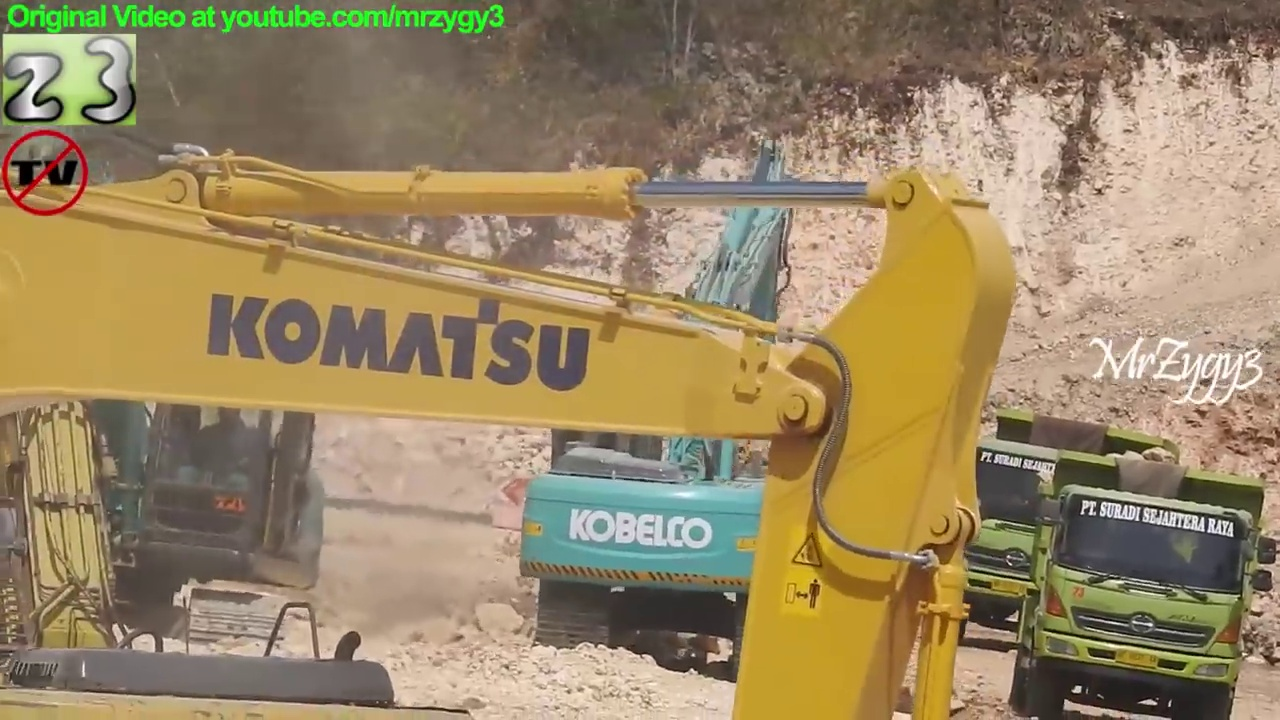excavator: (1, 102, 1019, 720), (1, 185, 479, 720), (510, 128, 874, 689), (1, 225, 337, 674)
truck: (1003, 447, 1280, 720), (917, 407, 1184, 659)
